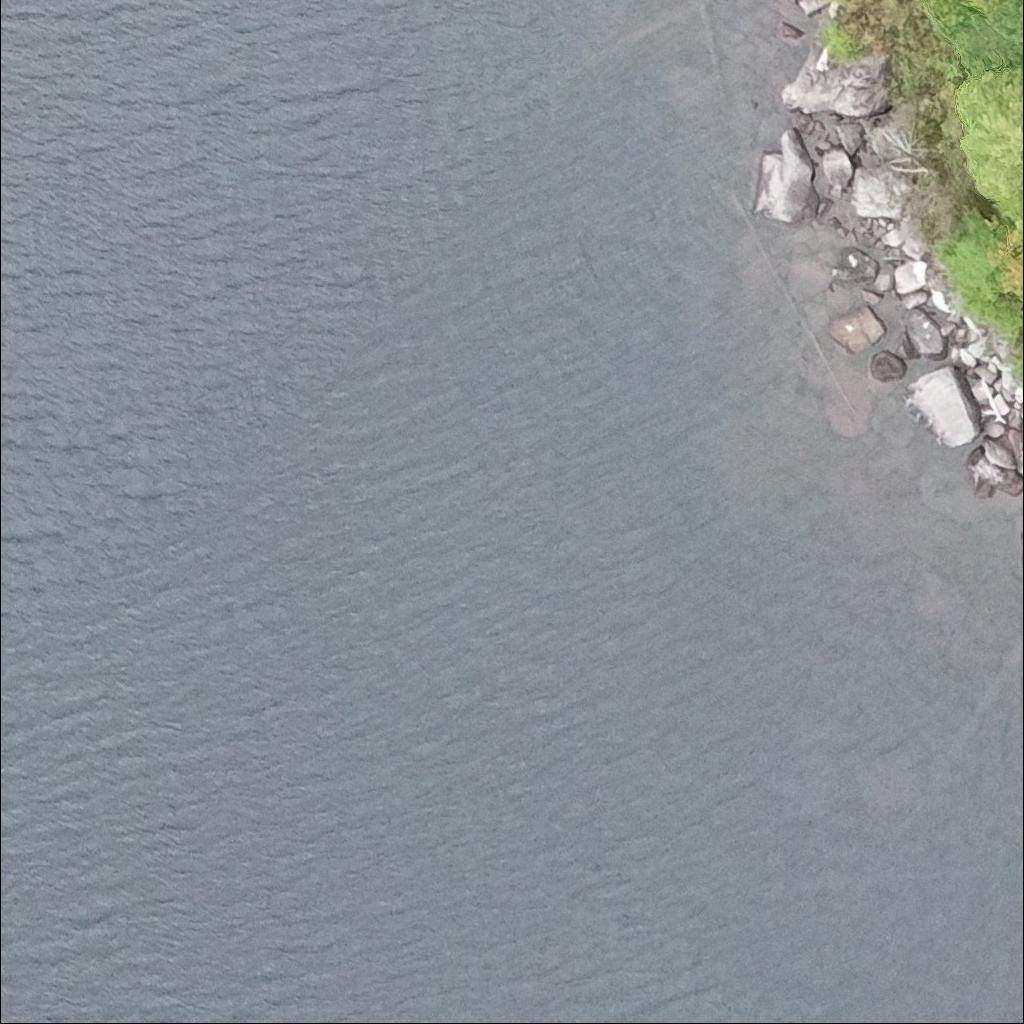crown: (955, 69, 1023, 224), (958, 0, 1012, 10), (1013, 221, 1023, 246)
